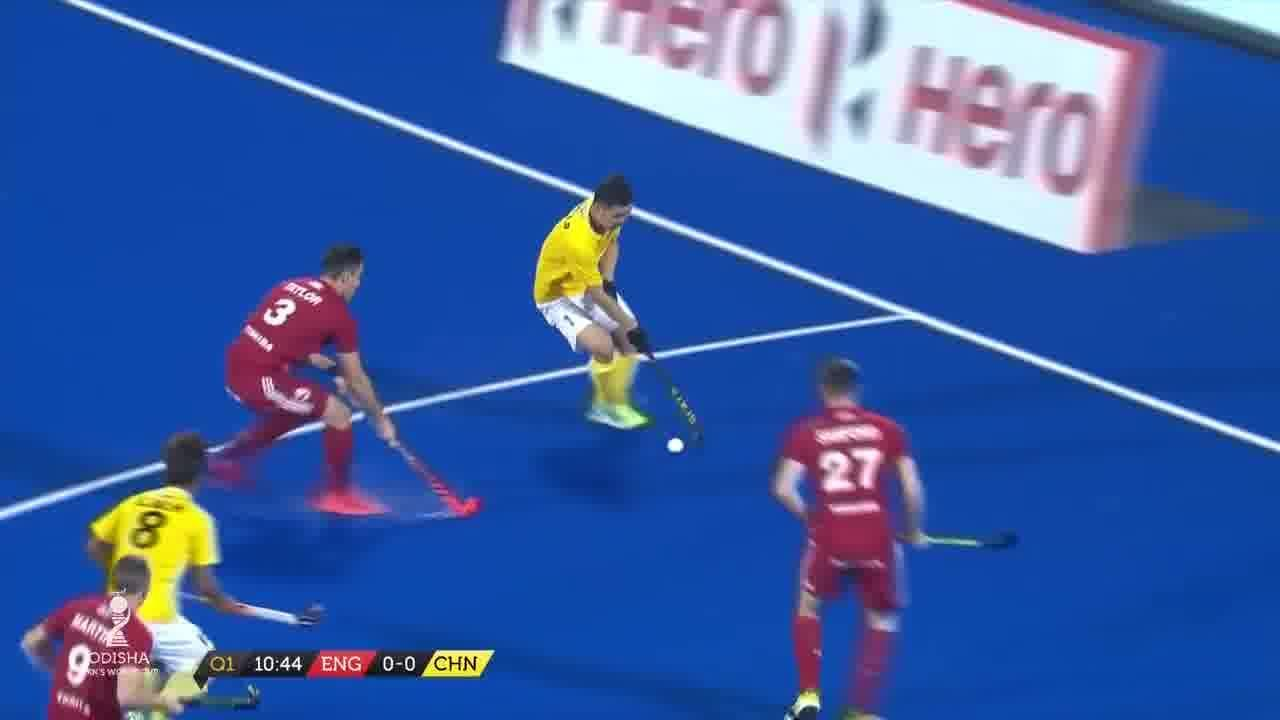ball: (660, 426, 688, 454)
